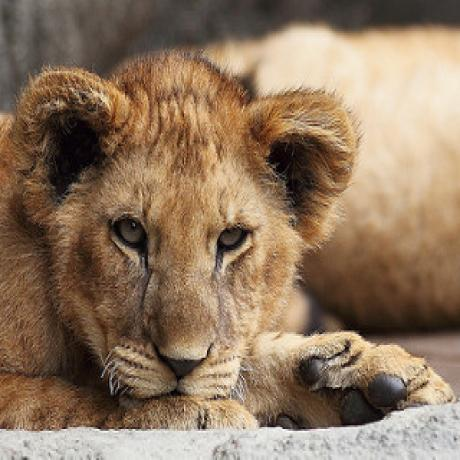Lion: (0, 45, 438, 430)
